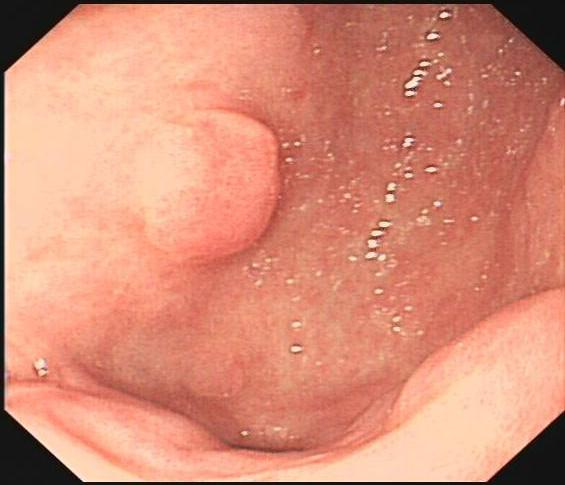Polyp: (132, 106, 281, 281)
